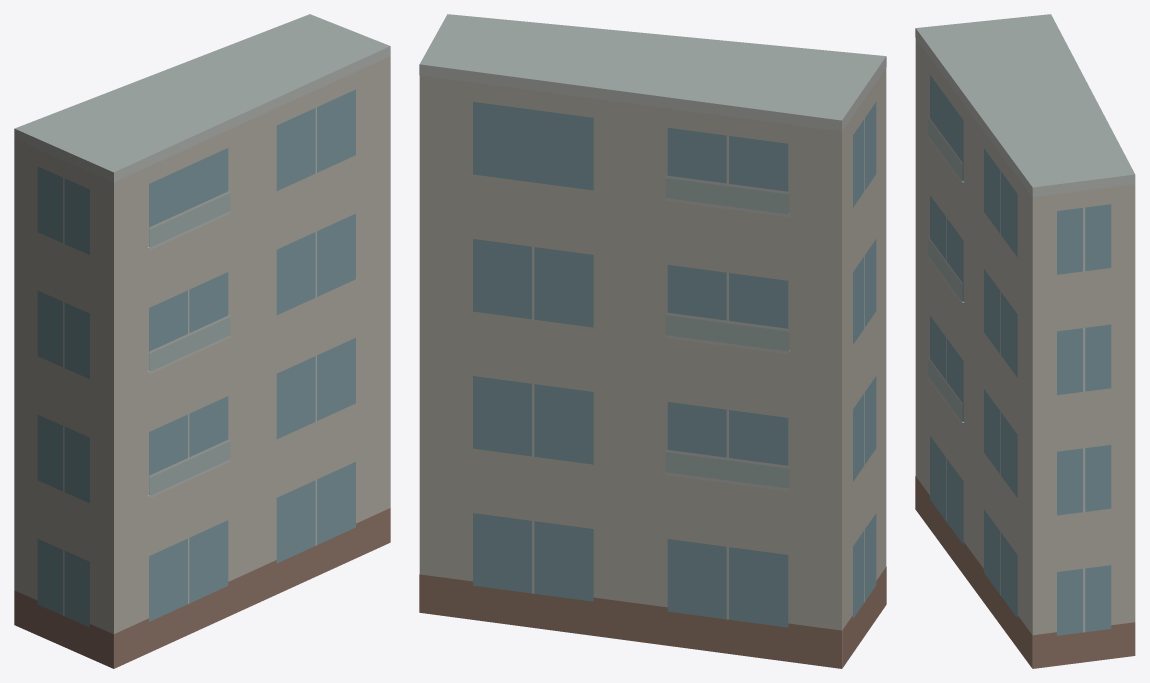
File: survey-upis-32623925.glb
3 views of the same model, side by side, from view 1: azimuth 30°, elevation 25°; view 2: azimuth 150°, elevation 25°; view 3: azimuth 270°, elevation 25° (orthographic). The views are drawn at different scales.
Parts seen in each view (by area): view 1: survey-upis-32623925.tmp; view 2: survey-upis-32623925.tmp; view 3: survey-upis-32623925.tmp.
Part boxes in pixels (x1=…): survey-upis-32623925.tmp: x1=14, y1=14, x2=390, y2=668; survey-upis-32623925.tmp: x1=419, y1=14, x2=886, y2=668; survey-upis-32623925.tmp: x1=915, y1=14, x2=1135, y2=668.
Bounding box in the file's own units: 9.44 × 12.2 × 5.06.
